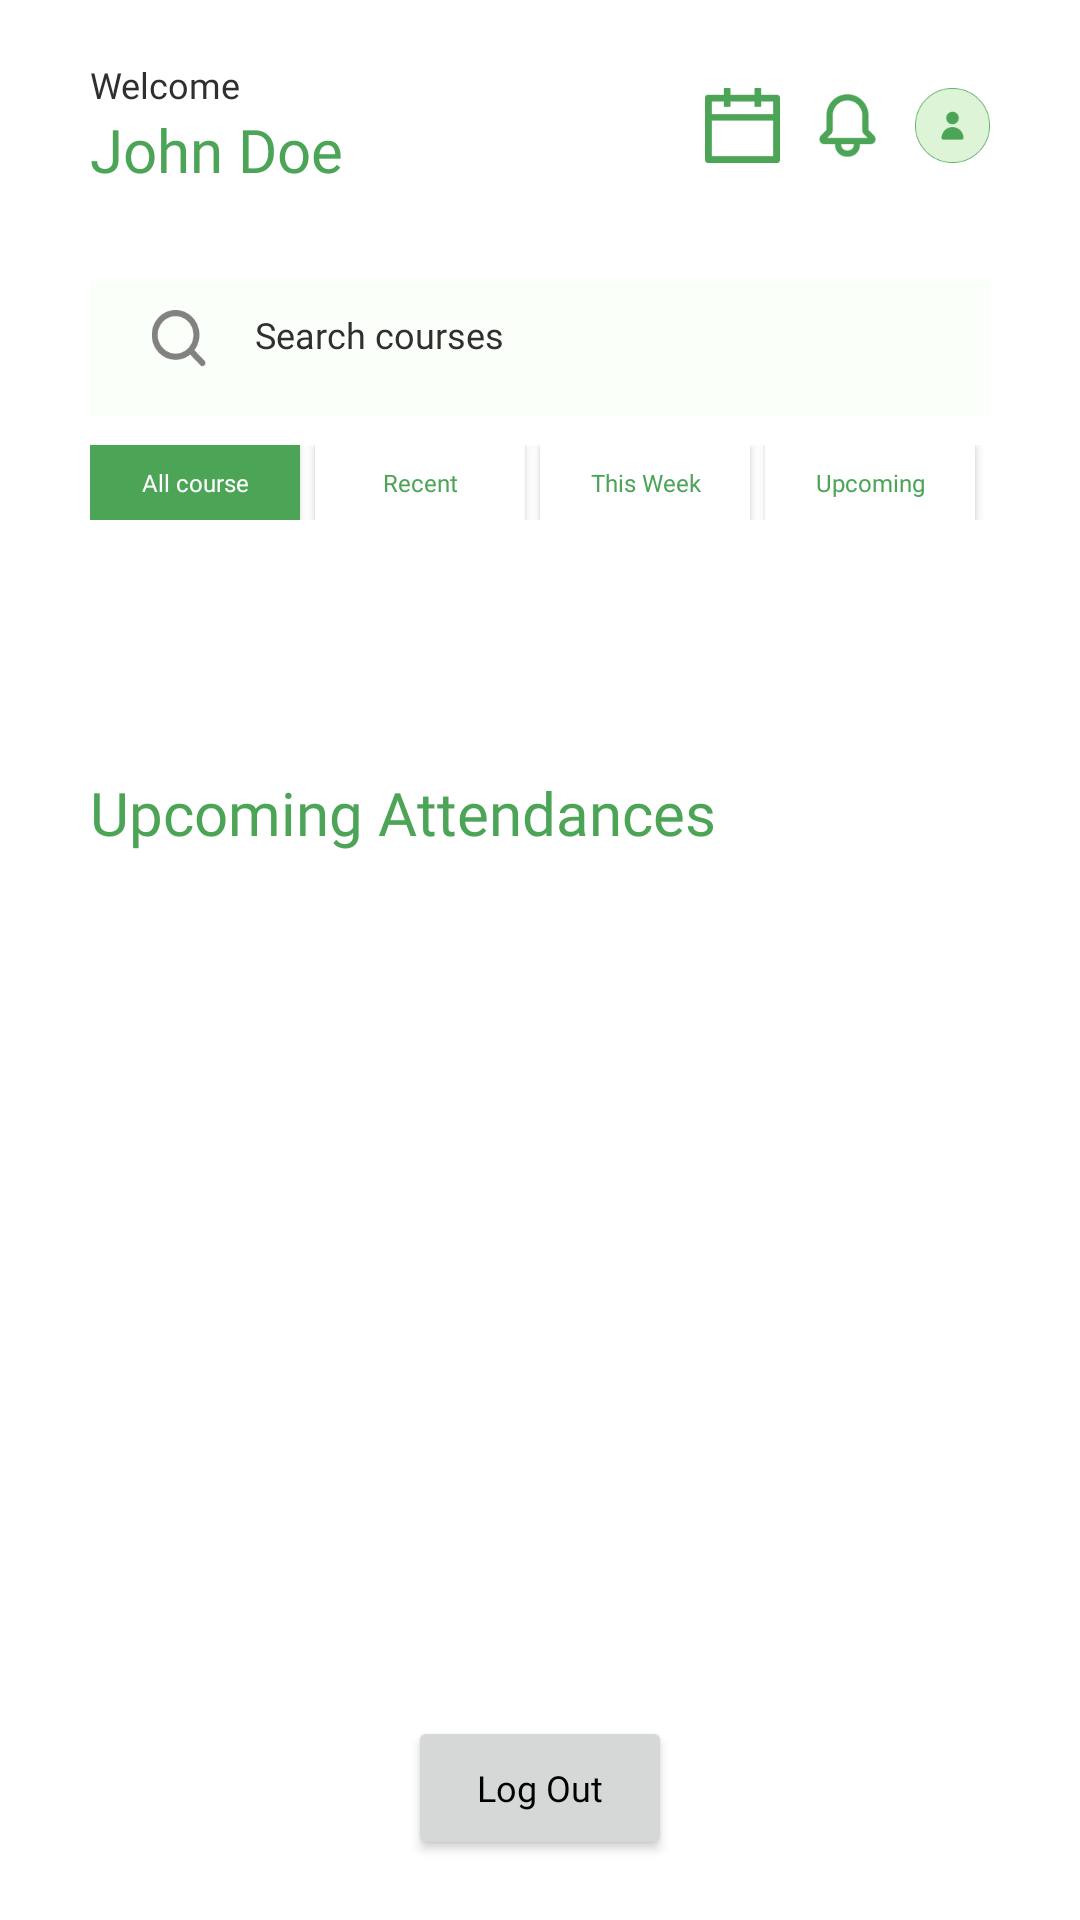

Locate icon controls on the screen. Image size 1080w x 1920h, boxes as (x1, y1, x2, y2).
bell: (819, 94, 876, 157)
person: (915, 88, 990, 163)
schedule: (705, 88, 780, 163)
